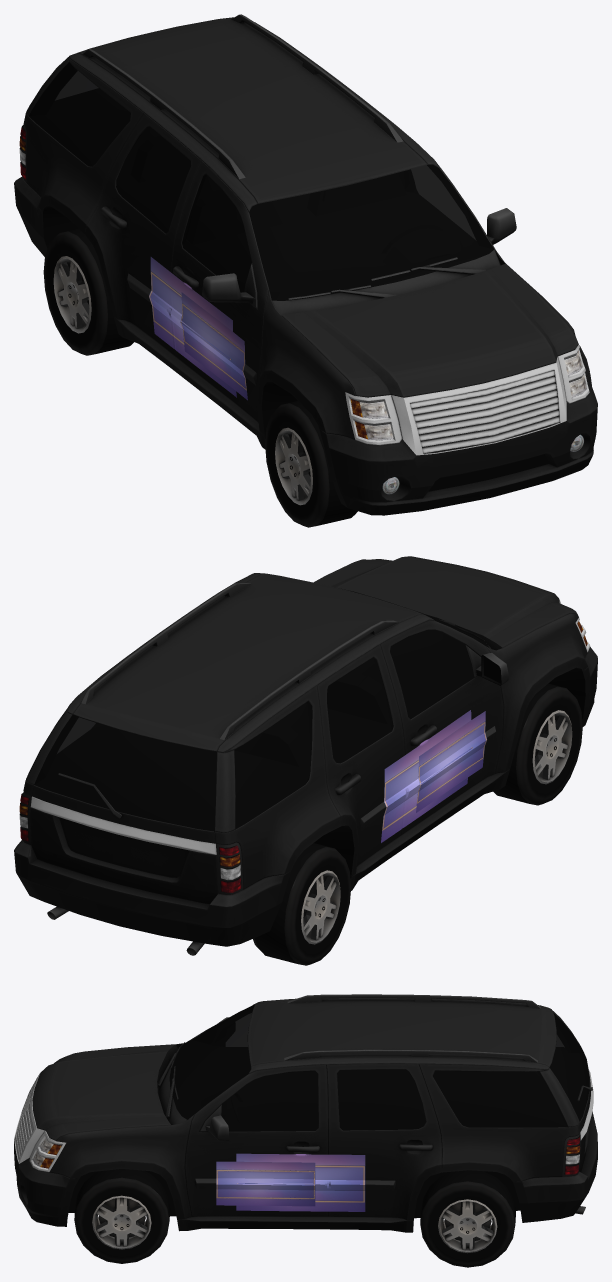
Rendered from suv.glb.
3 renders of one model, top to bottom at view 1: azimuth 30°, elevation 25°; view 2: azimuth 150°, elevation 25°; view 3: azimuth 270°, elevation 25°, orthographic. The views are drawn at different scales.
Parts seen in each view (by area): view 1: SUV Body, Wheel_E002_Wheel_0.001, Wheel_E003_Wheel_0.001, sRight, dsRight; view 2: SUV Body, Wheel_E003_Wheel_0.001, Wheel_E002_Wheel_0.001, sRight, dsRight; view 3: SUV Body, Wheel_E001_Wheel_0.001, Wheel_E_Wheel_0.001, sLeft, dsLeft.
Boxes of the visible parts, bbox=[...] form: SUV Body: bbox=[14, 14, 597, 515]; Wheel_E002_Wheel_0.001: bbox=[265, 401, 357, 527]; Wheel_E003_Wheel_0.001: bbox=[43, 228, 133, 355]; sRight: bbox=[180, 292, 247, 400]; dsRight: bbox=[149, 257, 236, 397]; SUV Body: bbox=[14, 556, 597, 955]; Wheel_E003_Wheel_0.001: bbox=[253, 843, 351, 965]; Wheel_E002_Wheel_0.001: bbox=[493, 683, 582, 805]; sRight: bbox=[416, 711, 486, 812]; dsRight: bbox=[381, 710, 472, 842]; SUV Body: bbox=[14, 994, 597, 1232]; Wheel_E001_Wheel_0.001: bbox=[420, 1170, 515, 1267]; Wheel_E_Wheel_0.001: bbox=[74, 1169, 170, 1263]; sLeft: bbox=[216, 1161, 315, 1206]; dsLeft: bbox=[236, 1153, 365, 1211].
Bounding box in the file's own units: 2.07 × 1.73 × 4.61.
Materials: 5 (4 with a texture image).
